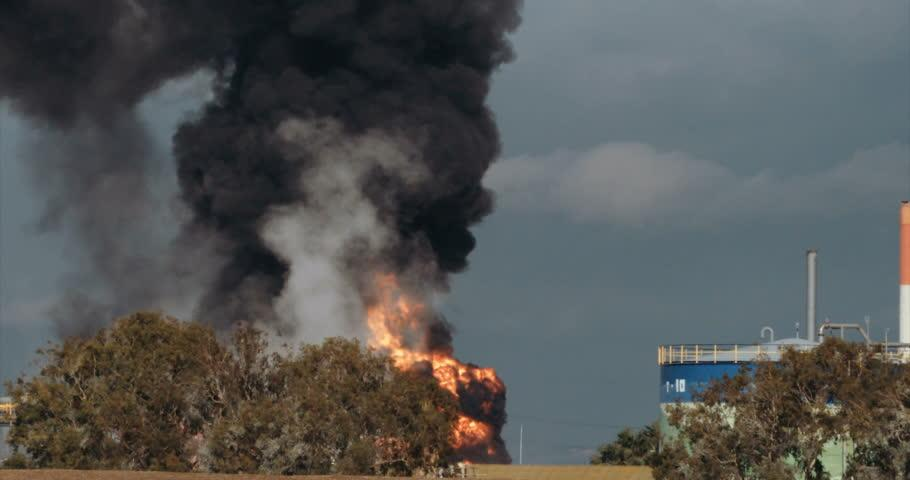fire: (370, 303, 443, 374)
smoke: (280, 231, 362, 330)
